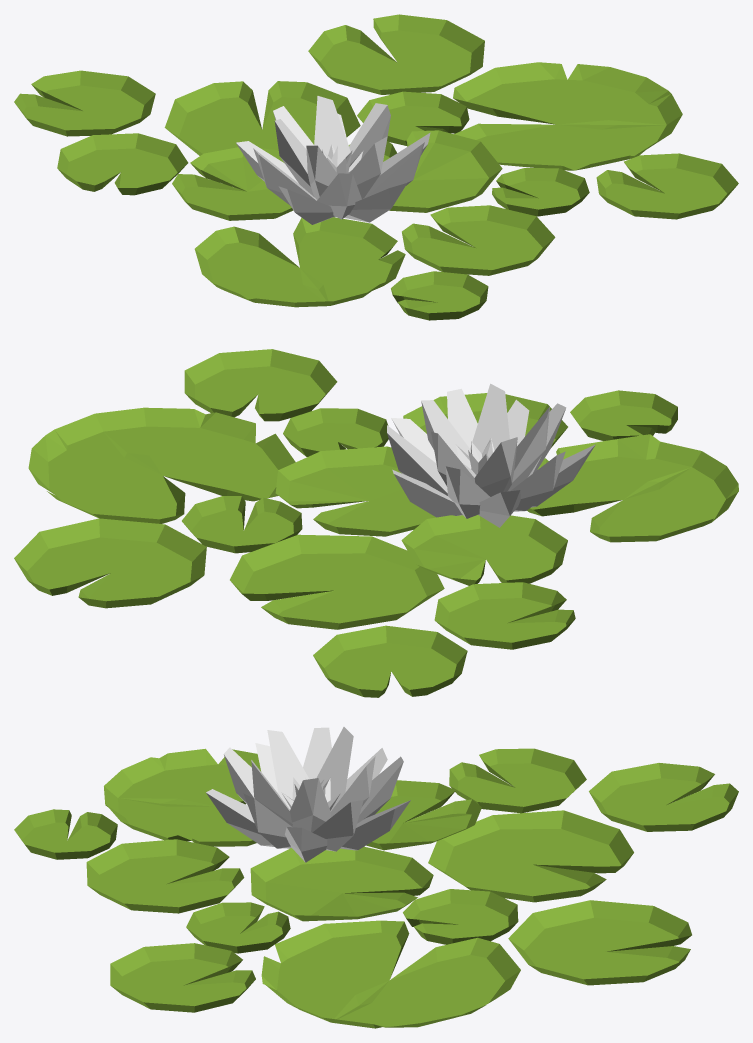
File: SM_Waterlily_Group_B.fbx
3 views of the same model, one above another, from view 1: azimuth 30°, elevation 25°; view 2: azimuth 150°, elevation 25°; view 3: azimuth 270°, elevation 25° (orthographic). The views are drawn at different scales.
Parts seen in each view (by area): view 1: waterlily-group-b; view 2: waterlily-group-b; view 3: waterlily-group-b.
Boxes of the visible parts, x1=… form: waterlily-group-b: x1=14, y1=14, x2=738, y2=320; waterlily-group-b: x1=14, y1=349, x2=738, y2=697; waterlily-group-b: x1=14, y1=727, x2=738, y2=1028.
Size of the model in its own units: 1.05 by 0.1776 by 1.16.
